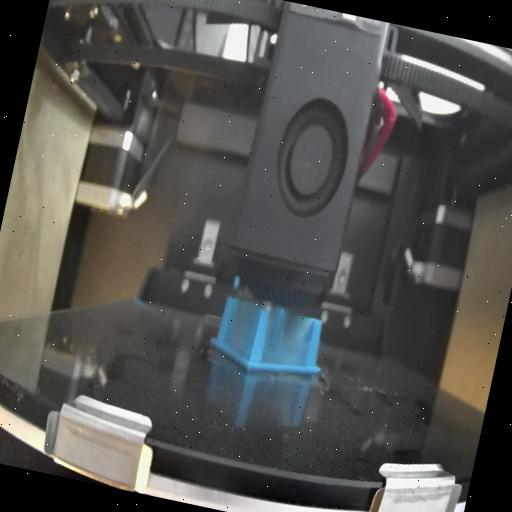stringing: (256, 306, 318, 378), (217, 298, 262, 360)
